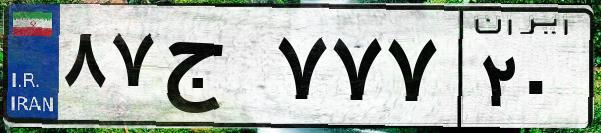0: (525, 38, 570, 115)
2: (475, 38, 525, 113)
7: (270, 28, 330, 110), (385, 28, 445, 110), (330, 28, 385, 110), (110, 28, 158, 98)
8: (57, 26, 110, 100)
ج: (158, 20, 270, 120)
